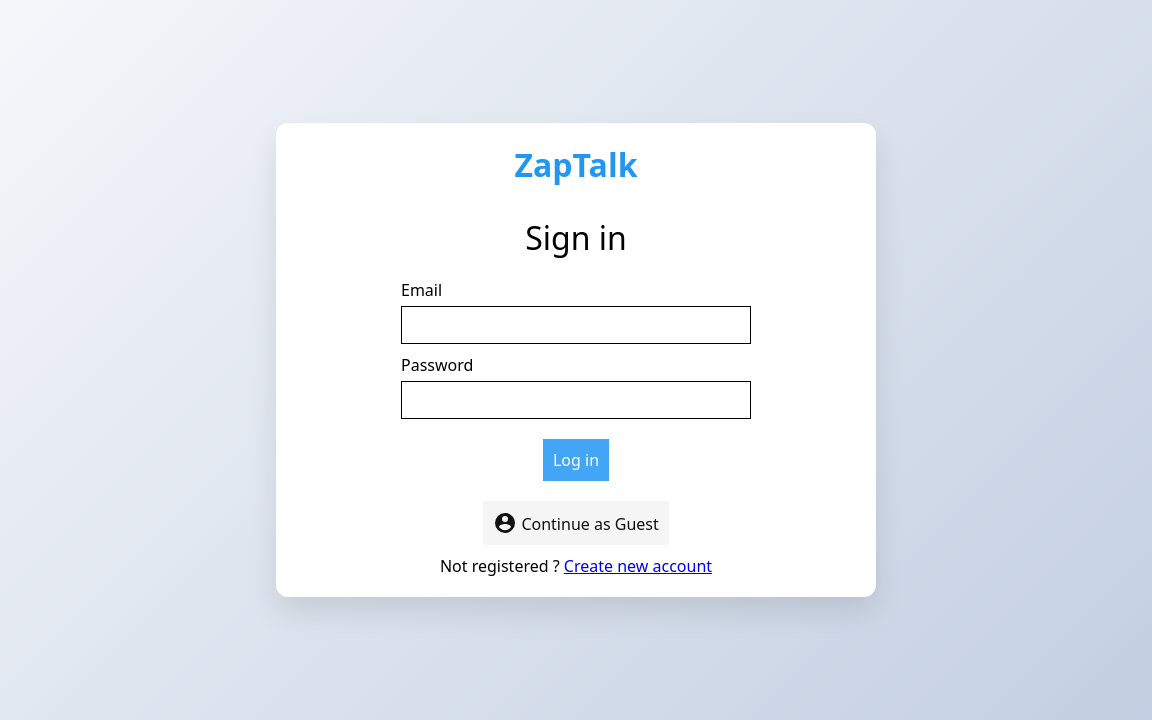
Login Component › Login button › on submit, display error if login is unsuccessful
Type "belal.hashem@gmail.com" into the field labelled "Email". click: (576, 325)
box: left=401, top=306, right=751, bottom=344
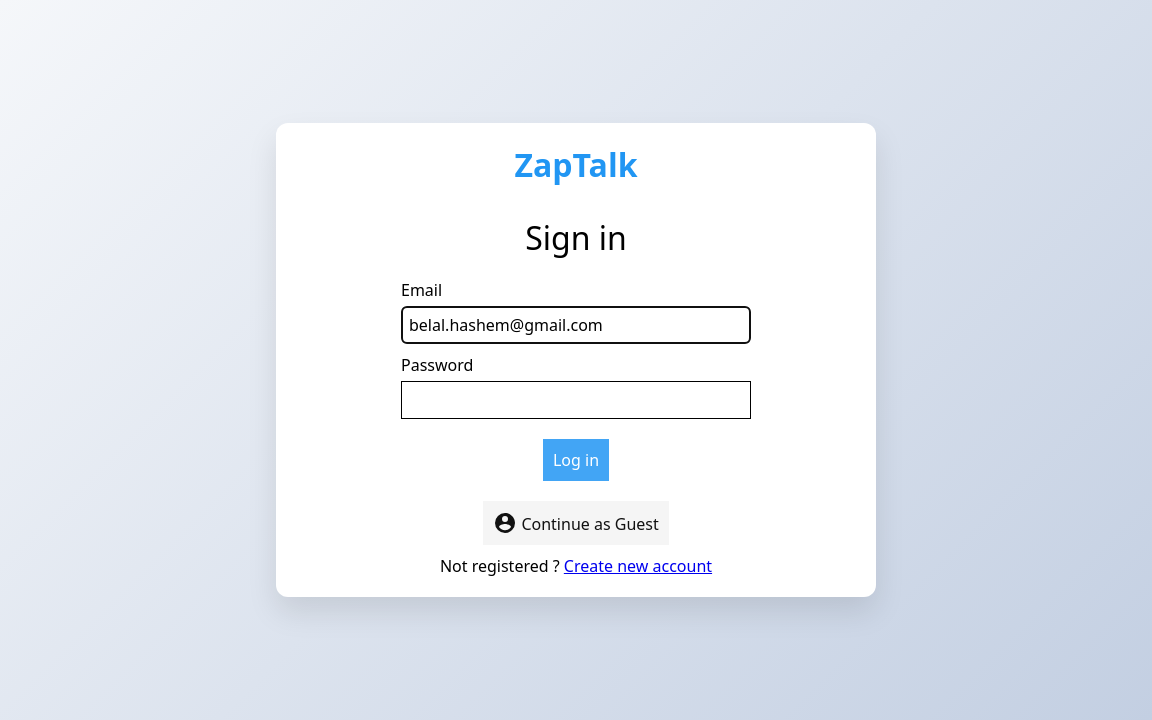
Type "123456aa" into the password field labelled "Password". click: (576, 400)
box: left=401, top=381, right=751, bottom=419
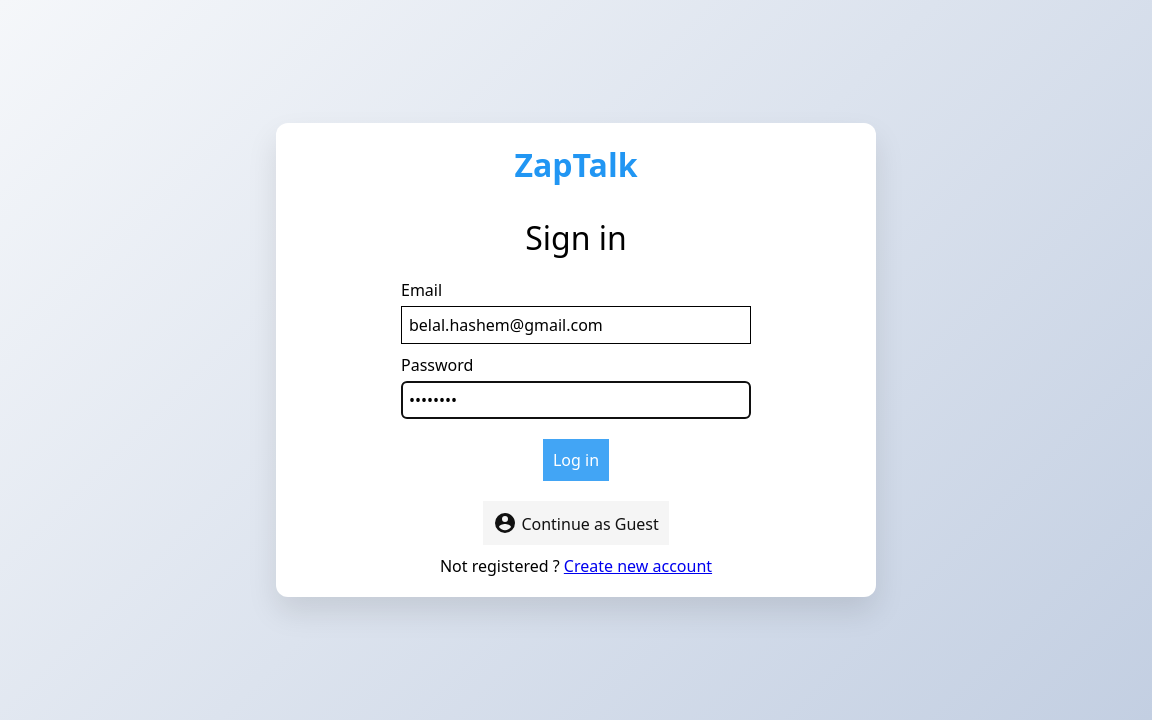
Click the button "Log in". click: (576, 460)
box: left=543, top=439, right=609, bottom=481
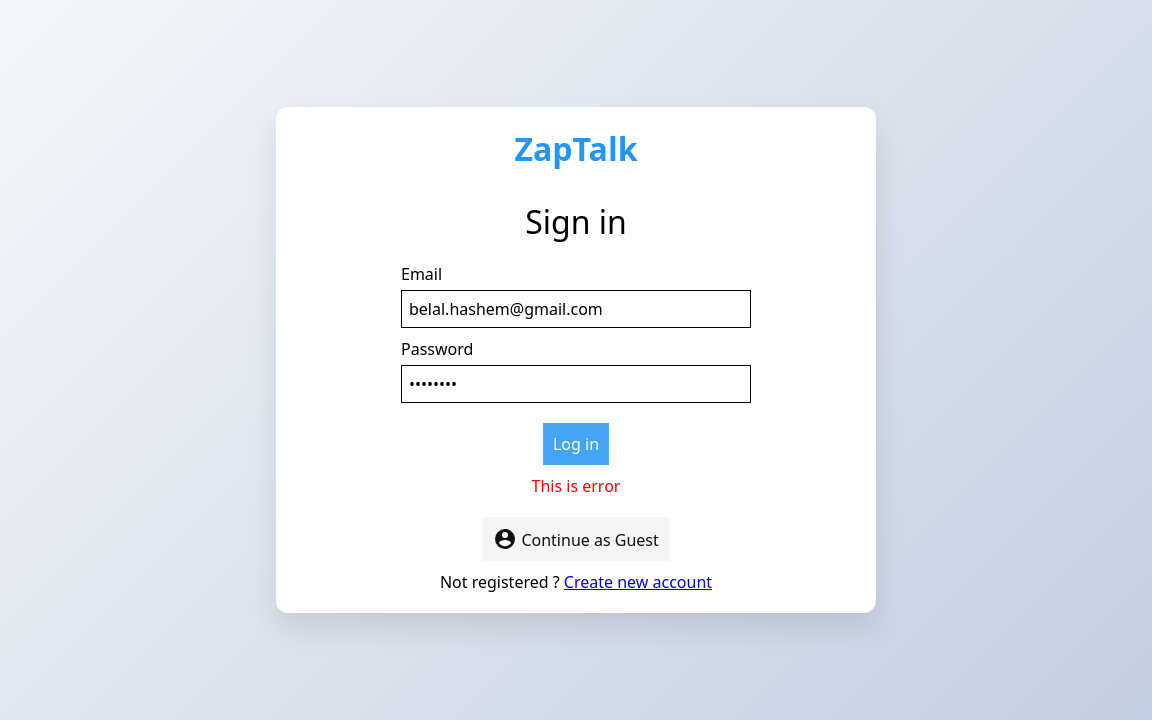
Expected: the text "This is error" is shown, left=532, top=475, right=620, bottom=497
